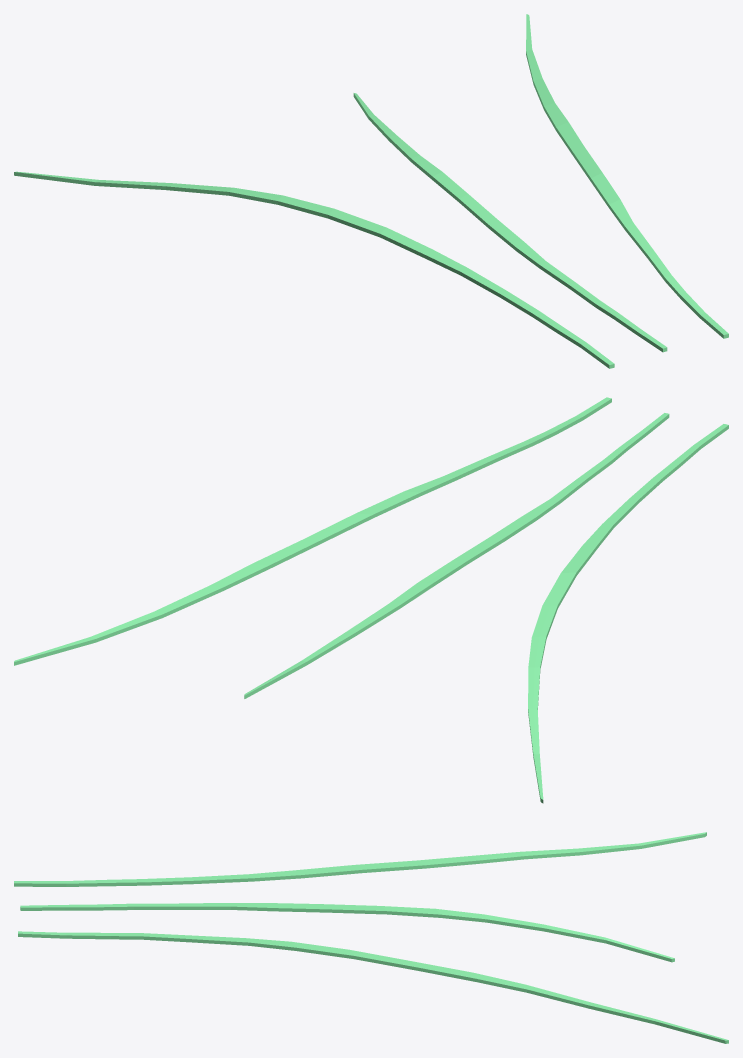
The model's file is longue_herbe.fbx.
3 renders of one model, top to bottom at view 1: azimuth 30°, elevation 25°; view 2: azimuth 150°, elevation 25°; view 3: azimuth 270°, elevation 25°, orthographic. The views are drawn at different scales.
Parts seen in each view (by area): view 1: lg_herbe; view 2: lg_herbe; view 3: lg_herbe.
Part boxes in pixels (left/top/right/bottom): lg_herbe: left=14, top=14, right=728, bottom=368; lg_herbe: left=14, top=397, right=728, bottom=803; lg_herbe: left=14, top=832, right=728, bottom=1043.
Size of the model in its own units: 7.06 by 9.41 by 0.7125.
